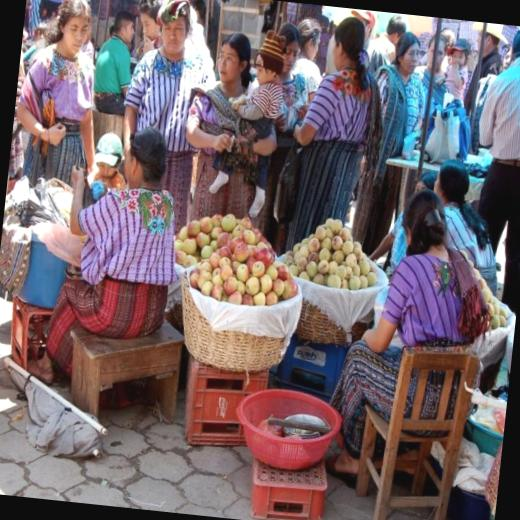Apple: (280, 212, 382, 292), (168, 208, 276, 276), (445, 243, 517, 331)
